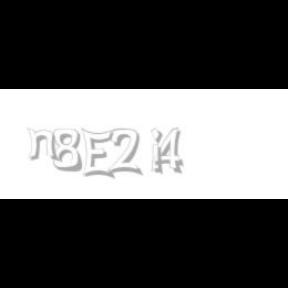2: (107, 128, 141, 176)
4: (153, 128, 184, 174)
8: (54, 128, 82, 172)
E: (80, 128, 114, 180)
i: (150, 128, 166, 176)
n: (26, 128, 60, 162)
